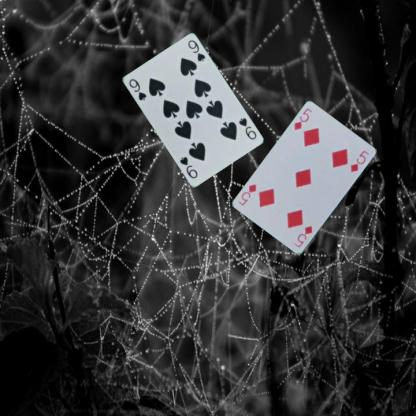5d: (291, 223, 314, 249), (291, 106, 314, 132)
9s: (235, 115, 258, 141), (126, 76, 147, 102)
